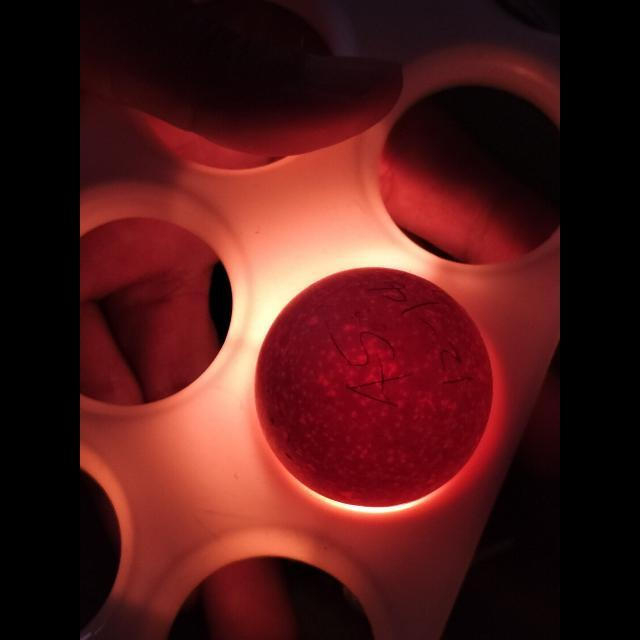Infertile: (262, 267, 490, 508)
